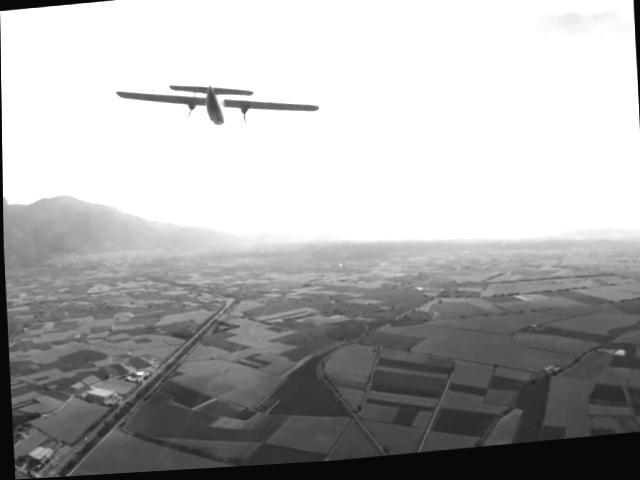hedef: (108, 24, 322, 155)
